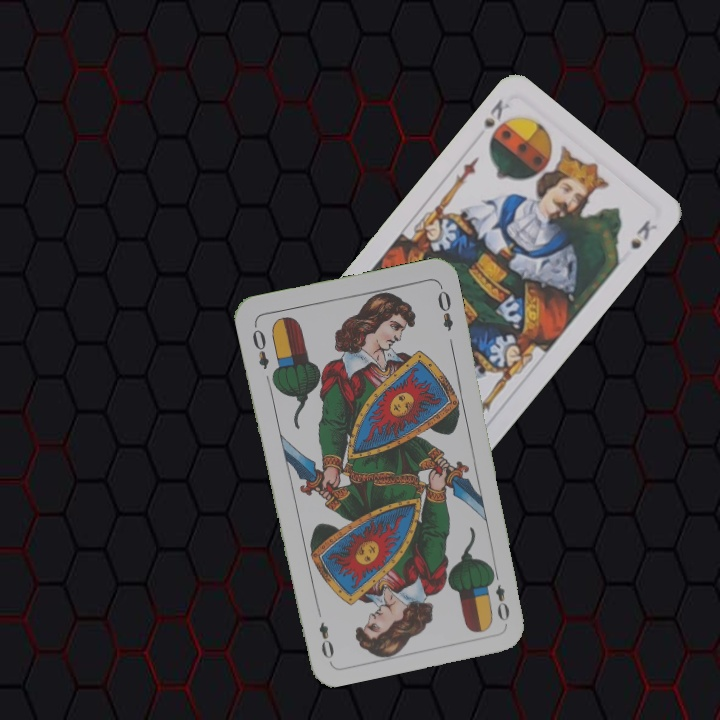EO: (486, 566, 512, 624), (248, 320, 272, 372)
SK: (479, 94, 513, 147)
